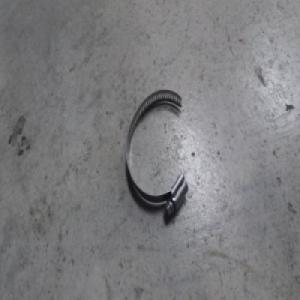AdjustableClamp: (126, 89, 191, 215)
